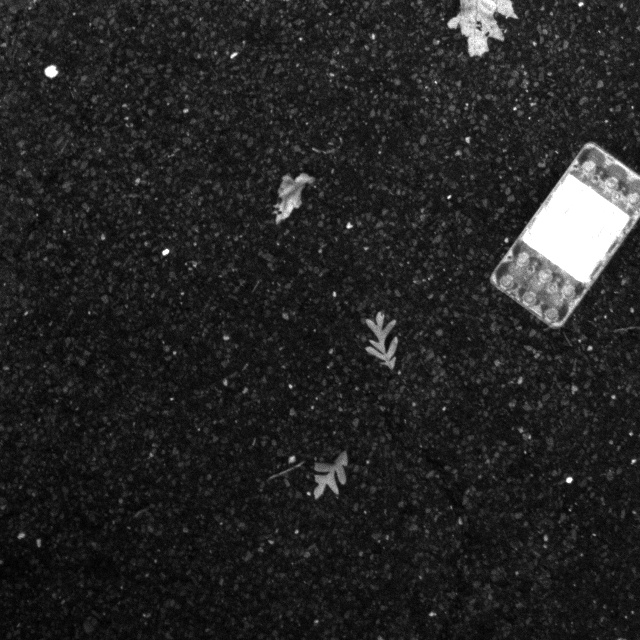container: (487, 134, 640, 330)
